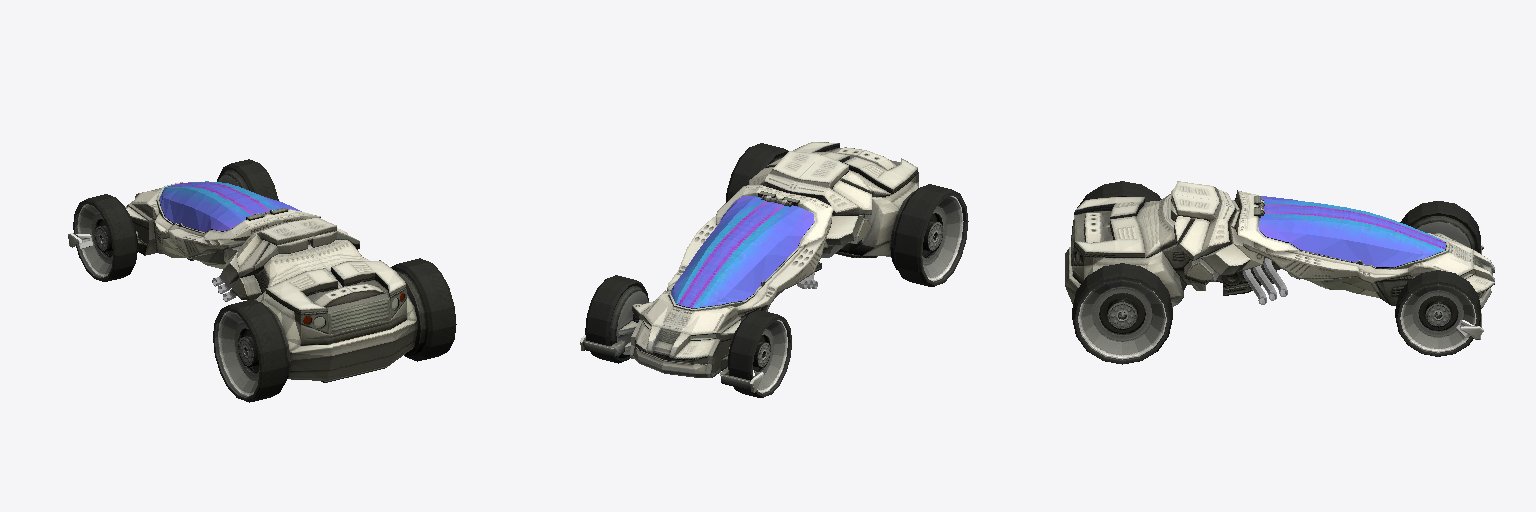
3 renders of one model, left to right at view 1: azimuth 30°, elevation 25°; view 2: azimuth 150°, elevation 25°; view 3: azimuth 270°, elevation 25°, orthographic.
Parts seen in each view (by area): view 1: Car_Mesh_Cube.012, Back_Wheel_Mesh_1_L_Cube.002, Car_Glas_Mesh_Cube.013, Front_Wheel_Mesh_2_L_Cube.009, Back_Wheel_Mesh_1_R_Cube.003, Front_Steering_Mesh_2_R_Cube.004, Back_Suspension_R_Cube.001; view 2: Car_Mesh_Cube.012, Car_Glas_Mesh_Cube.013, Back_Wheel_Mesh_1_L_Cube.002, Front_Wheel_Mesh_2_L_Cube.009, Front_Steering_Mesh_2_R_Cube.004, Front_Wheel_Mesh_1_R_Cube.005, Back_Wheel_Mesh_1_R_Cube.003, Front_Steering_Mesh_1_L_Cube.010; view 3: Car_Mesh_Cube.012, Back_Wheel_Mesh_1_R_Cube.003, Car_Glas_Mesh_Cube.013, Front_Steering_Mesh_2_R_Cube.004, Front_Wheel_Mesh_2_L_Cube.009, Front_Steering_Mesh_1_L_Cube.010, Back_Wheel_Mesh_1_L_Cube.002.
Part boxes in pixels (left/top/right/bottom): Car_Mesh_Cube.012: left=125, top=182, right=417, bottom=382; Back_Wheel_Mesh_1_L_Cube.002: left=213, top=299, right=287, bottom=402; Car_Glas_Mesh_Cube.013: left=159, top=181, right=301, bottom=232; Front_Wheel_Mesh_2_L_Cube.009: left=73, top=194, right=137, bottom=281; Back_Wheel_Mesh_1_R_Cube.003: left=391, top=258, right=456, bottom=361; Front_Steering_Mesh_2_R_Cube.004: left=217, top=159, right=278, bottom=200; Back_Suspension_R_Cube.001: left=396, top=271, right=427, bottom=355; Car_Mesh_Cube.012: left=630, top=142, right=918, bottom=377; Car_Glas_Mesh_Cube.013: left=671, top=196, right=814, bottom=308; Back_Wheel_Mesh_1_L_Cube.002: left=893, top=184, right=968, bottom=286; Front_Wheel_Mesh_2_L_Cube.009: left=728, top=310, right=791, bottom=397; Front_Steering_Mesh_2_R_Cube.004: left=585, top=275, right=648, bottom=363; Front_Wheel_Mesh_1_R_Cube.005: left=580, top=286, right=648, bottom=357; Back_Wheel_Mesh_1_R_Cube.003: left=726, top=143, right=788, bottom=202; Front_Steering_Mesh_1_L_Cube.010: left=720, top=328, right=763, bottom=392; Car_Mesh_Cube.012: left=1065, top=181, right=1494, bottom=308; Back_Wheel_Mesh_1_R_Cube.003: left=1072, top=263, right=1172, bottom=364; Car_Glas_Mesh_Cube.013: left=1259, top=196, right=1445, bottom=267; Front_Steering_Mesh_2_R_Cube.004: left=1395, top=270, right=1480, bottom=356; Front_Wheel_Mesh_2_L_Cube.009: left=1400, top=201, right=1480, bottom=252; Front_Steering_Mesh_1_L_Cube.010: left=1412, top=216, right=1483, bottom=254; Back_Wheel_Mesh_1_L_Cube.002: left=1072, top=181, right=1161, bottom=227.
Size of the model in its own units: 3.65 by 2.22 by 6.96.
5 materials, 3 textured.